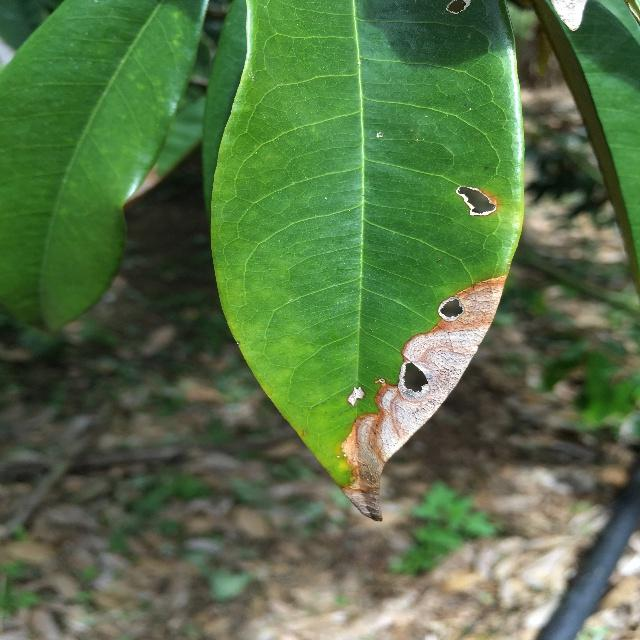Leaf Blight: (201, 0, 532, 528)
